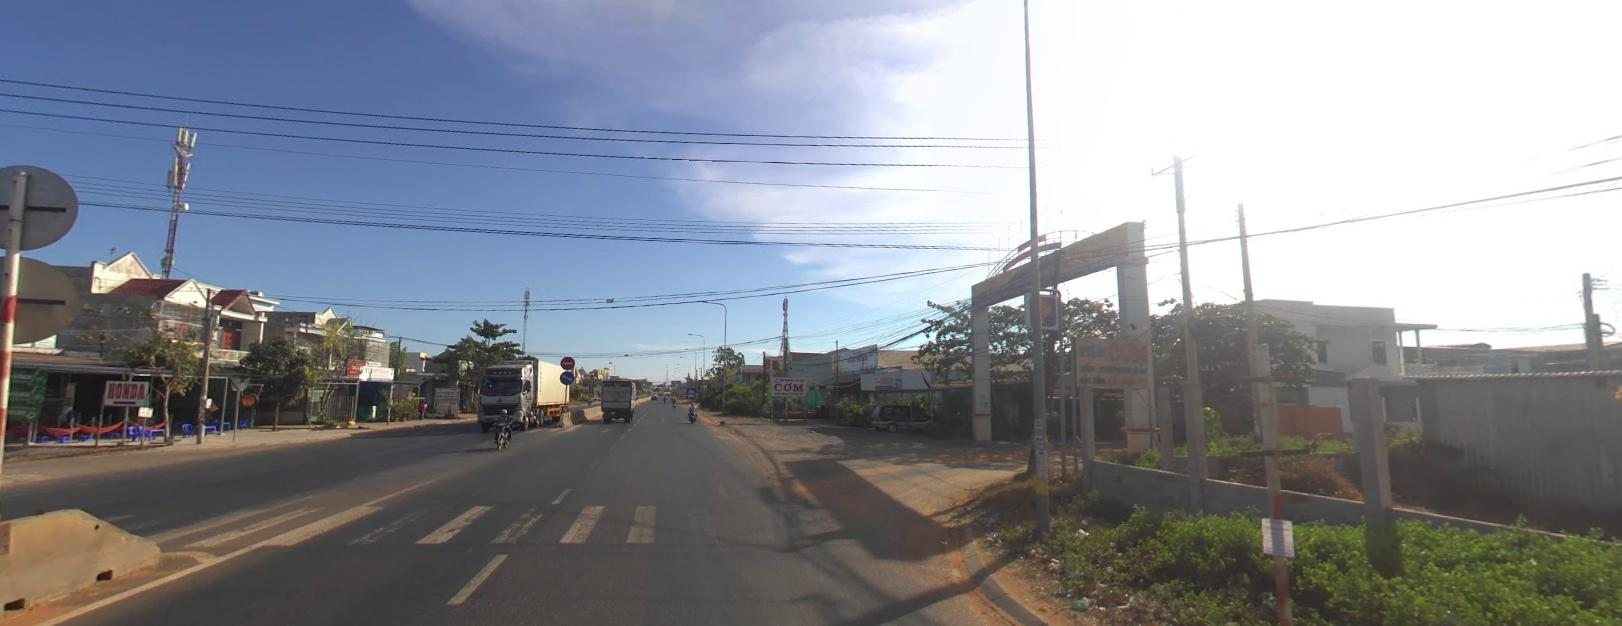Cam nguoc chieu: (560, 354, 574, 367)
Hieu lenh: (559, 370, 573, 383)
